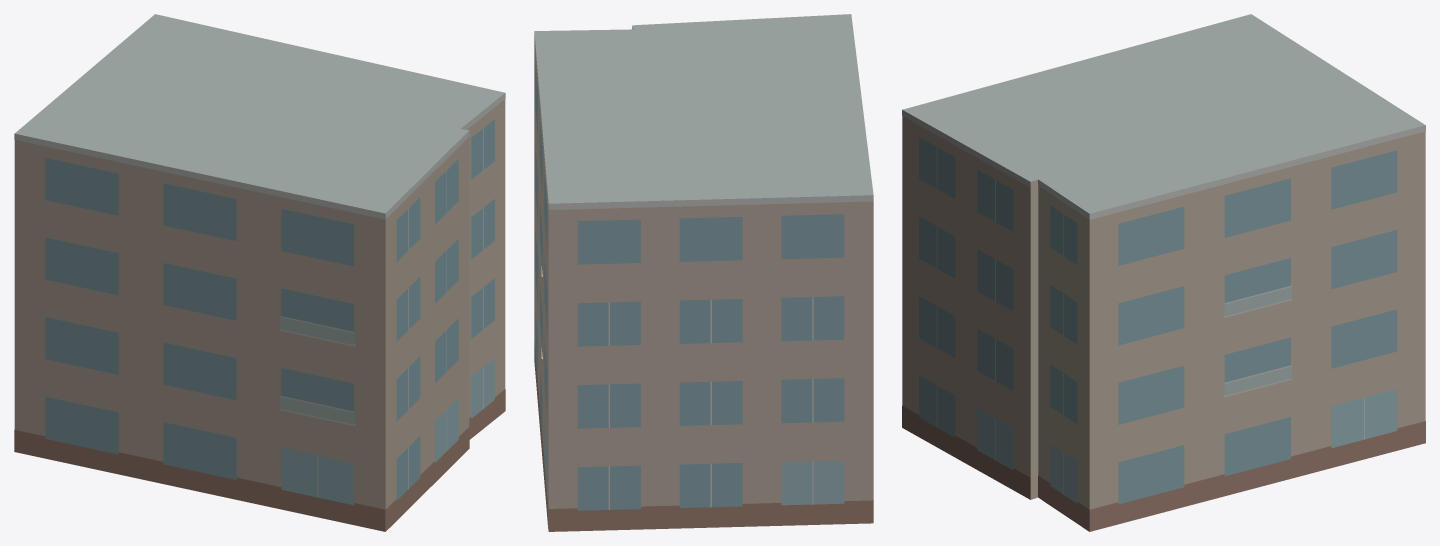
File: survey-upis-32831307.glb
3 renders of one model, left to right at view 1: azimuth 30°, elevation 25°; view 2: azimuth 150°, elevation 25°; view 3: azimuth 270°, elevation 25°, orthographic. The views are drawn at different scales.
Visible parts, largest first — view 1: survey-upis-32831307.tmp; view 2: survey-upis-32831307.tmp; view 3: survey-upis-32831307.tmp.
Part boxes in pixels (<box>): survey-upis-32831307.tmp: <box>14,14,505,531</box>; survey-upis-32831307.tmp: <box>534,14,873,531</box>; survey-upis-32831307.tmp: <box>902,14,1425,531</box>.
Bounding box in the file's own units: 17.26 × 12.8 × 19.11.
